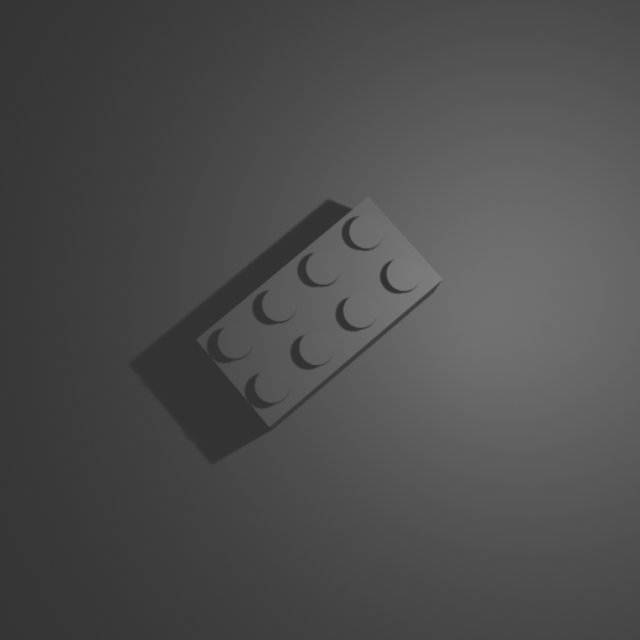lego_2x4: (194, 193, 444, 430)
